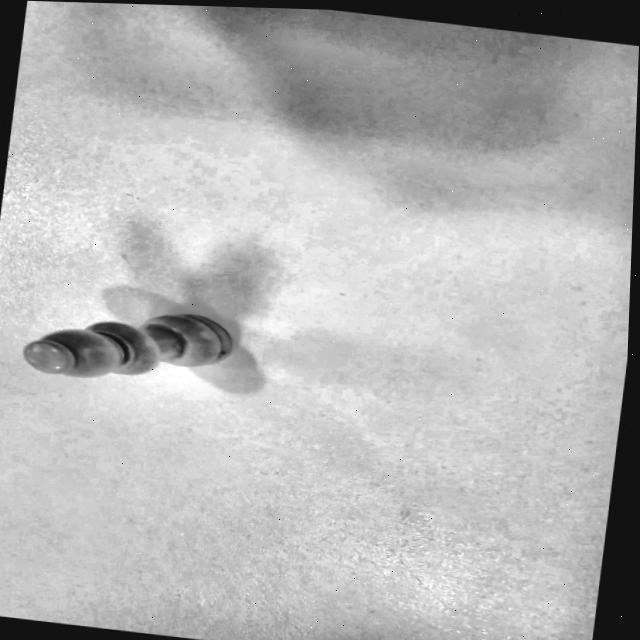white-bishop: (24, 291, 256, 392)
